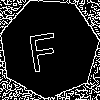F: (24, 23, 61, 73)
